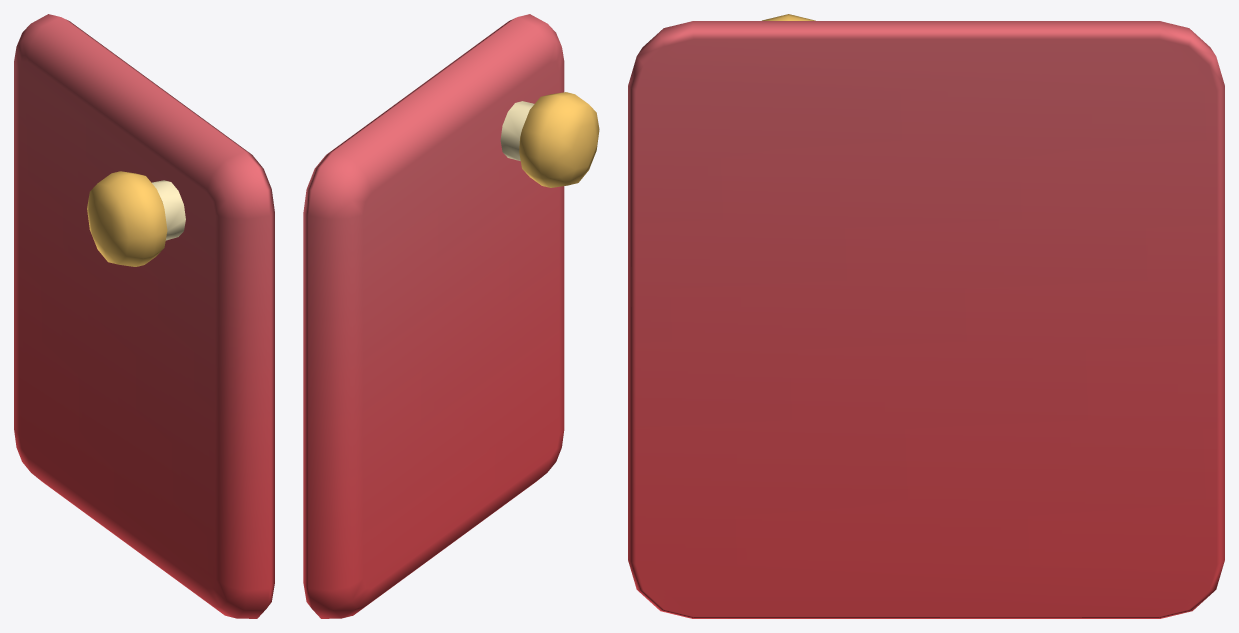
Rendered from Kitchen_sink_door_001.fbx.
3 renders of one model, left to right at view 1: azimuth 30°, elevation 25°; view 2: azimuth 150°, elevation 25°; view 3: azimuth 270°, elevation 25°, orthographic. The views are drawn at different scales.
Visible parts, largest first — view 1: Kitchen_sink_door_001; view 2: Kitchen_sink_door_001; view 3: Kitchen_sink_door_001.
Part boxes in pixels (x1=…): Kitchen_sink_door_001: x1=14, y1=14, x2=274, y2=618; Kitchen_sink_door_001: x1=303, y1=14, x2=599, y2=618; Kitchen_sink_door_001: x1=628, y1=14, x2=1224, y2=618.
Bounding box in the file's own units: 11.34 × 39.32 × 43.04.
